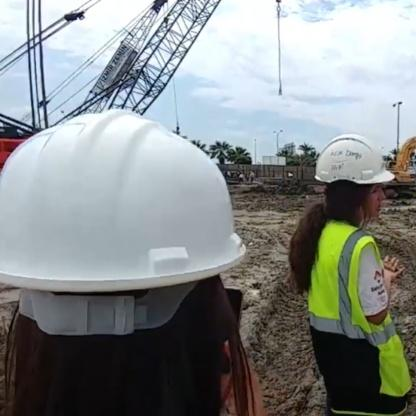helmet: (302, 128, 398, 232)
